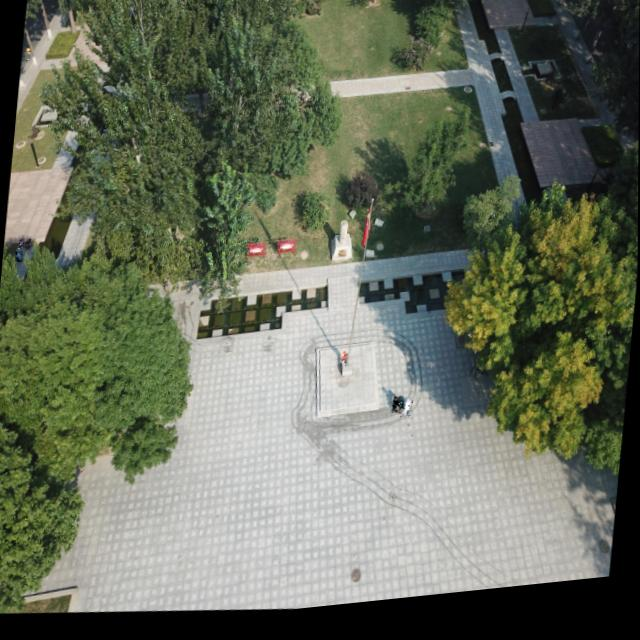Person: (398, 406, 412, 428), (392, 404, 403, 422), (14, 250, 24, 263), (25, 45, 32, 62), (340, 357, 348, 371), (25, 239, 32, 250), (19, 239, 25, 249)
